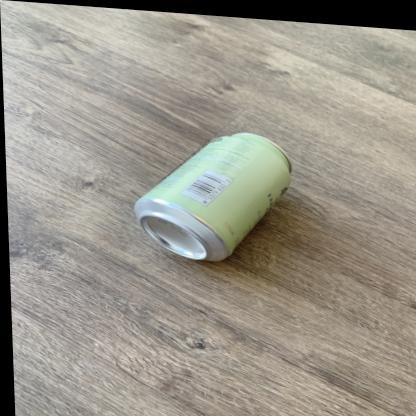trash: (135, 133, 290, 260)
